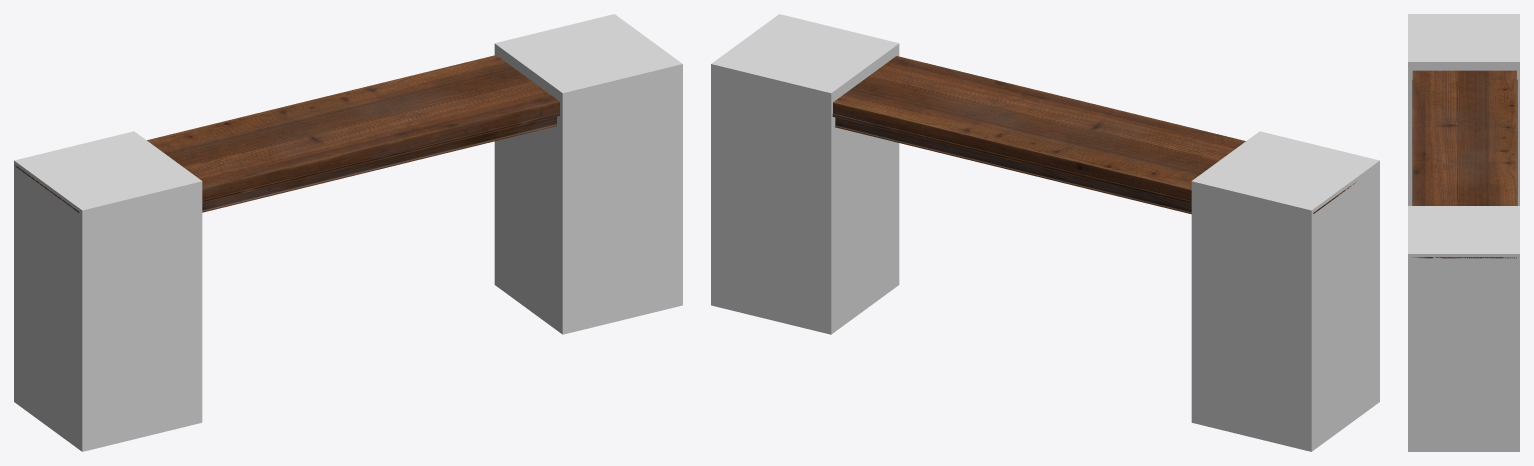
The model's file is console_table.glb.
3 renders of one model, left to right at view 1: azimuth 30°, elevation 25°; view 2: azimuth 150°, elevation 25°; view 3: azimuth 270°, elevation 25°, orthographic. The views are drawn at different scales.
Visible parts, largest first — view 1: chinese_console_table_COL, chinese_console_table; view 2: chinese_console_table_COL, chinese_console_table; view 3: chinese_console_table_COL, chinese_console_table.
Boxes of the visible parts, bbox=[...] form: chinese_console_table_COL: bbox=[14, 14, 682, 451]; chinese_console_table: bbox=[15, 55, 559, 212]; chinese_console_table_COL: bbox=[711, 14, 1379, 451]; chinese_console_table: bbox=[832, 56, 1356, 214]; chinese_console_table_COL: bbox=[1408, 14, 1519, 451]; chinese_console_table: bbox=[1412, 70, 1517, 258].
Bounding box in the file's own units: 1.72 × 0.6607 × 0.3388.
Materials: 1 (1 with a texture image).
